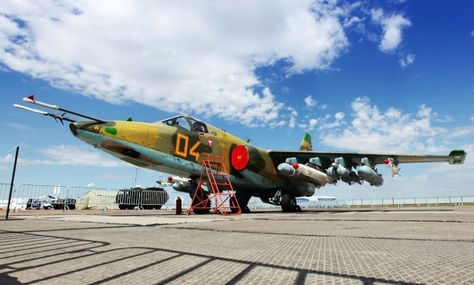Aeronef_militaire: (8, 85, 469, 218)
